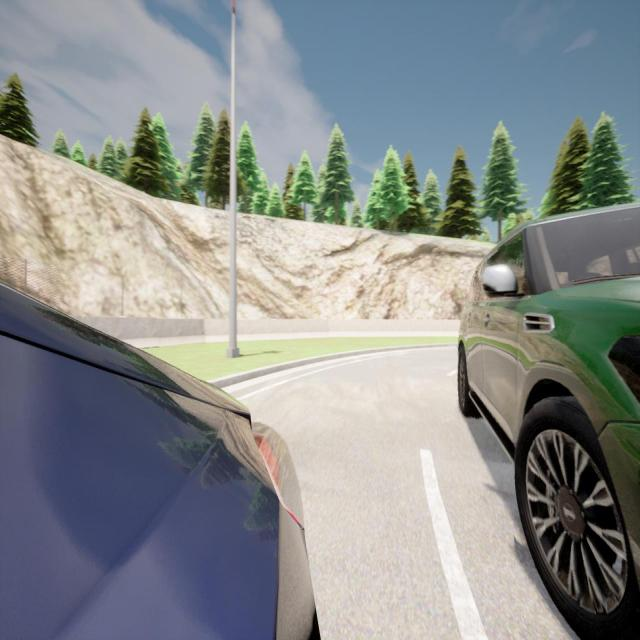Vehicle: (0, 283, 319, 638), (454, 203, 640, 639)
